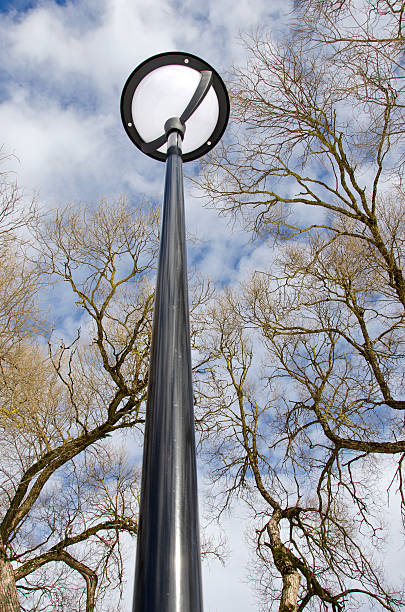light_pole: (132, 155, 206, 612)
